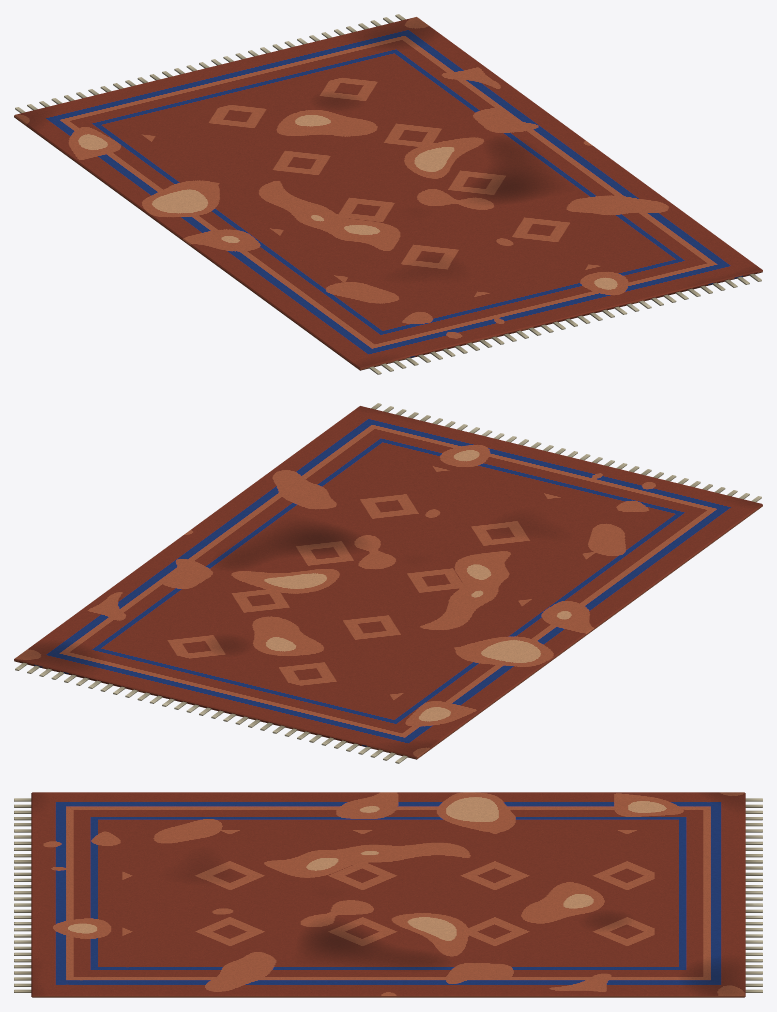
The model's file is rug_worn.glb.
3 views of the same model, one above another, from view 1: azimuth 30°, elevation 25°; view 2: azimuth 150°, elevation 25°; view 3: azimuth 270°, elevation 25° (orthographic). The views are drawn at different scales.
Visible parts, largest first — view 1: rug_worn; view 2: rug_worn; view 3: rug_worn.
Boxes of the visible parts, x1,y1,x2,y2 form: rug_worn: [14, 14, 762, 374]; rug_worn: [14, 403, 762, 763]; rug_worn: [14, 792, 762, 997].
Size of the model in its own units: 1.38 by 0.01 by 2.15.
Materials: 2 (2 with a texture image).
